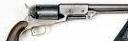gun: (1, 1, 128, 41)
